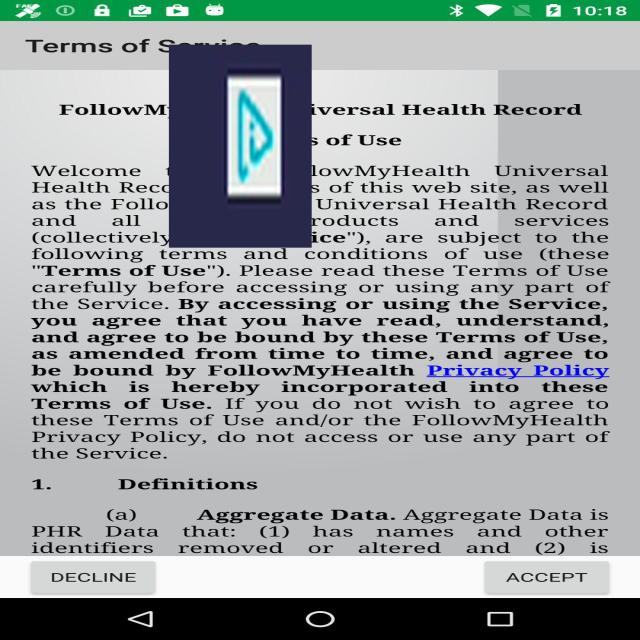sneaking: (169, 44, 312, 248)
